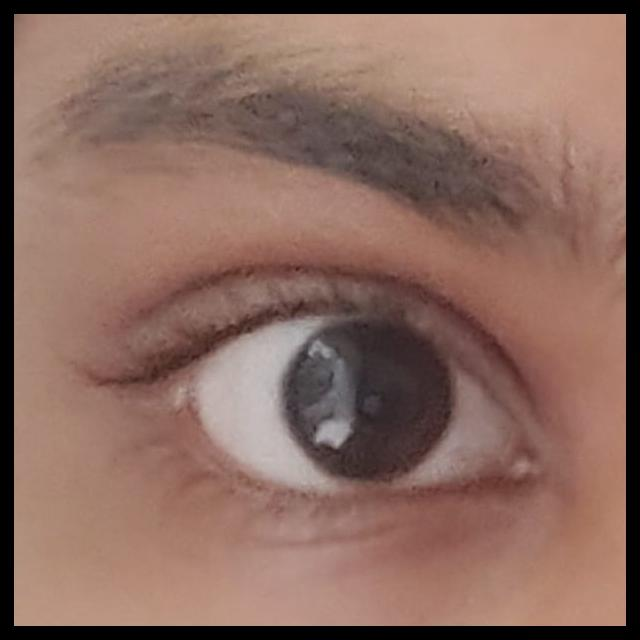eye: (187, 312, 516, 492)
iris: (277, 323, 465, 483)
